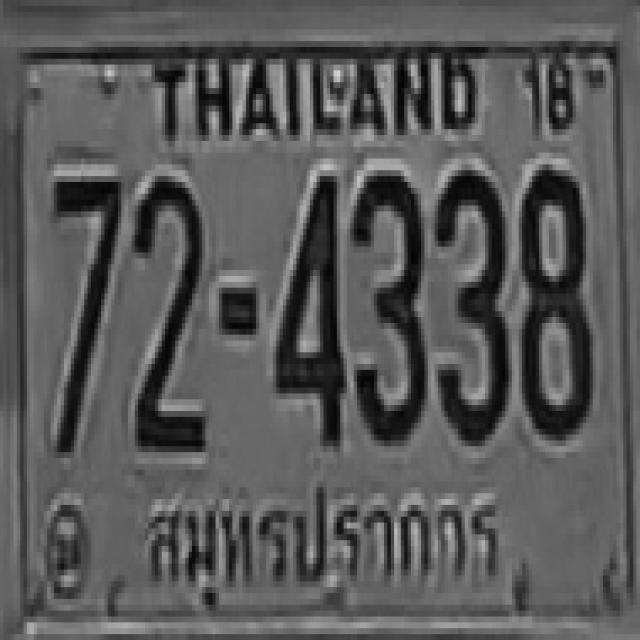2: (131, 170, 202, 447)
3: (431, 164, 505, 440), (350, 168, 424, 438)
4: (273, 170, 340, 440)
7: (51, 170, 121, 452)
8: (519, 164, 589, 434)
SamutPrakan: (135, 470, 510, 612)
